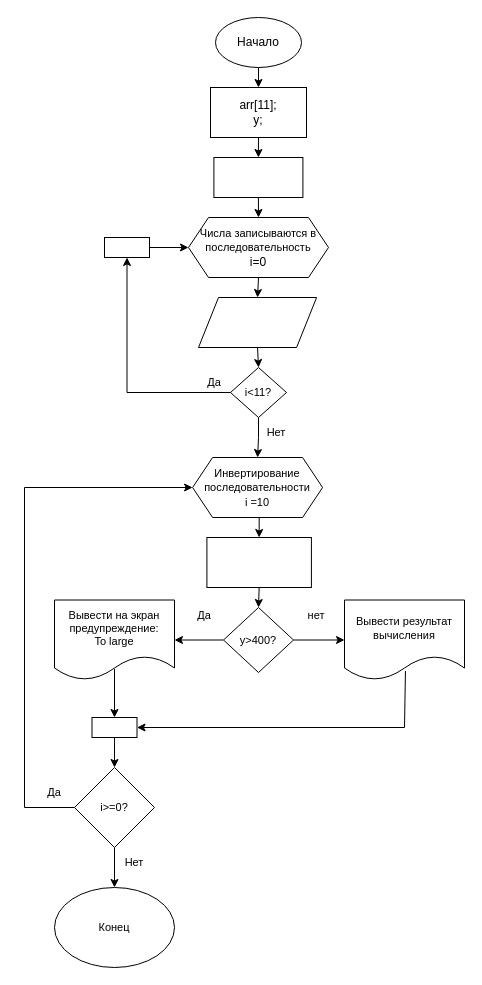
This 482x985 diagram has some shape labels left out. The shapes that lost their labels are listed below. From the top down, each one's centre as x and y in pixels, then its label:
At (x=258, y=177): "Запрос на ввод 11 чисел".
At (x=127, y=247): "i++".
At (x=257, y=322): "Ввод числа с клавиатуры".
At (x=258, y=562): "y = sqrt(fabs(Х)) + 5 * pow(Х, 3)".
At (x=114, y=727): "i--".
